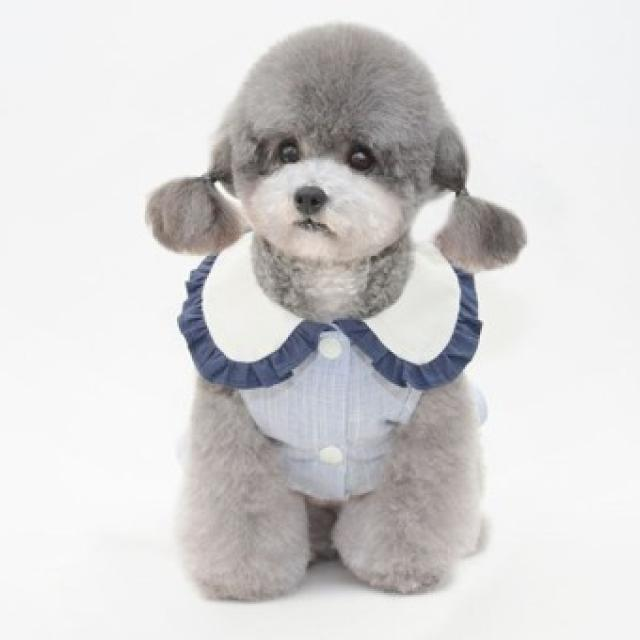cloth: (179, 235, 481, 501)
